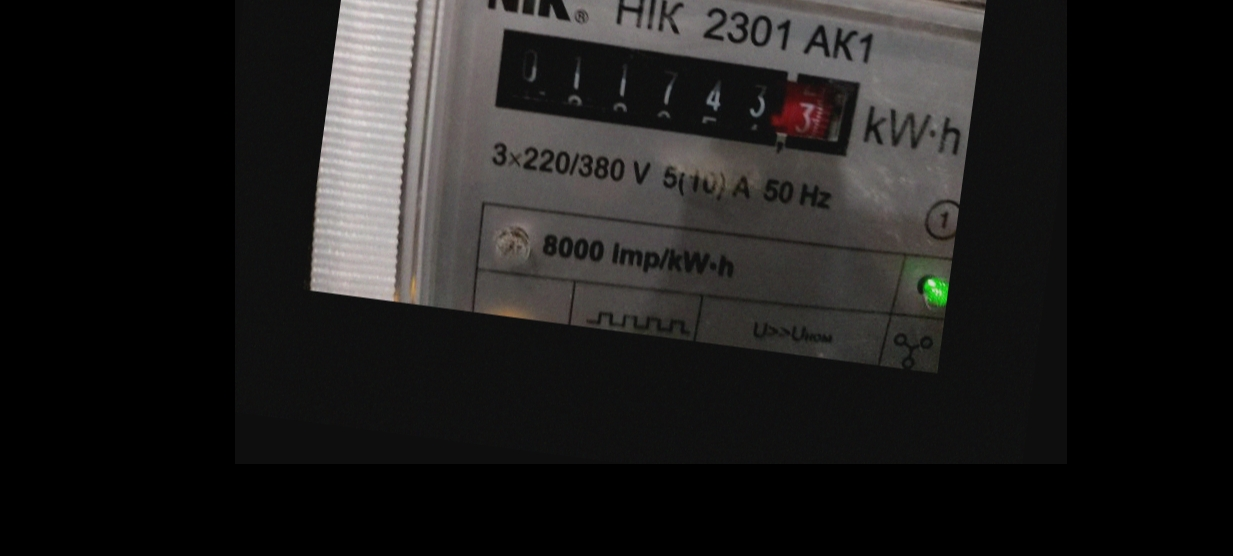0: (516, 46, 543, 88), (566, 52, 589, 95)
1: (612, 59, 634, 102)
3: (745, 80, 771, 125), (792, 99, 817, 139)
4: (701, 74, 726, 116)
7: (655, 65, 683, 111)
screen: (472, 14, 871, 171)
